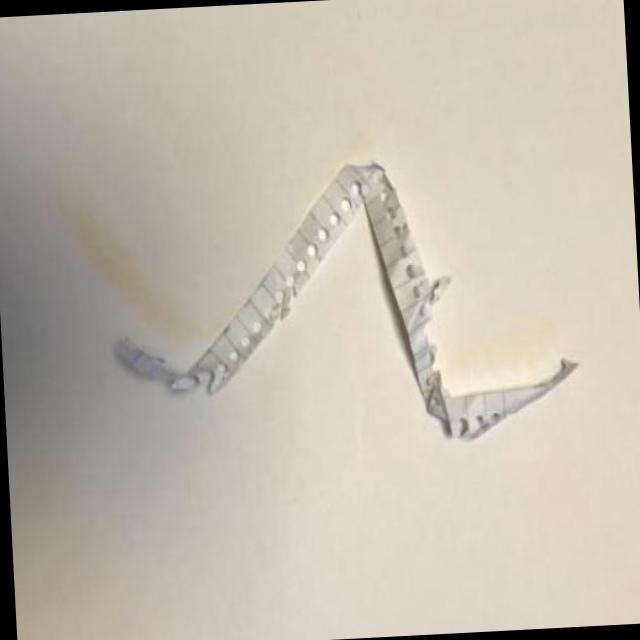cardboard paper: (117, 166, 577, 441)
